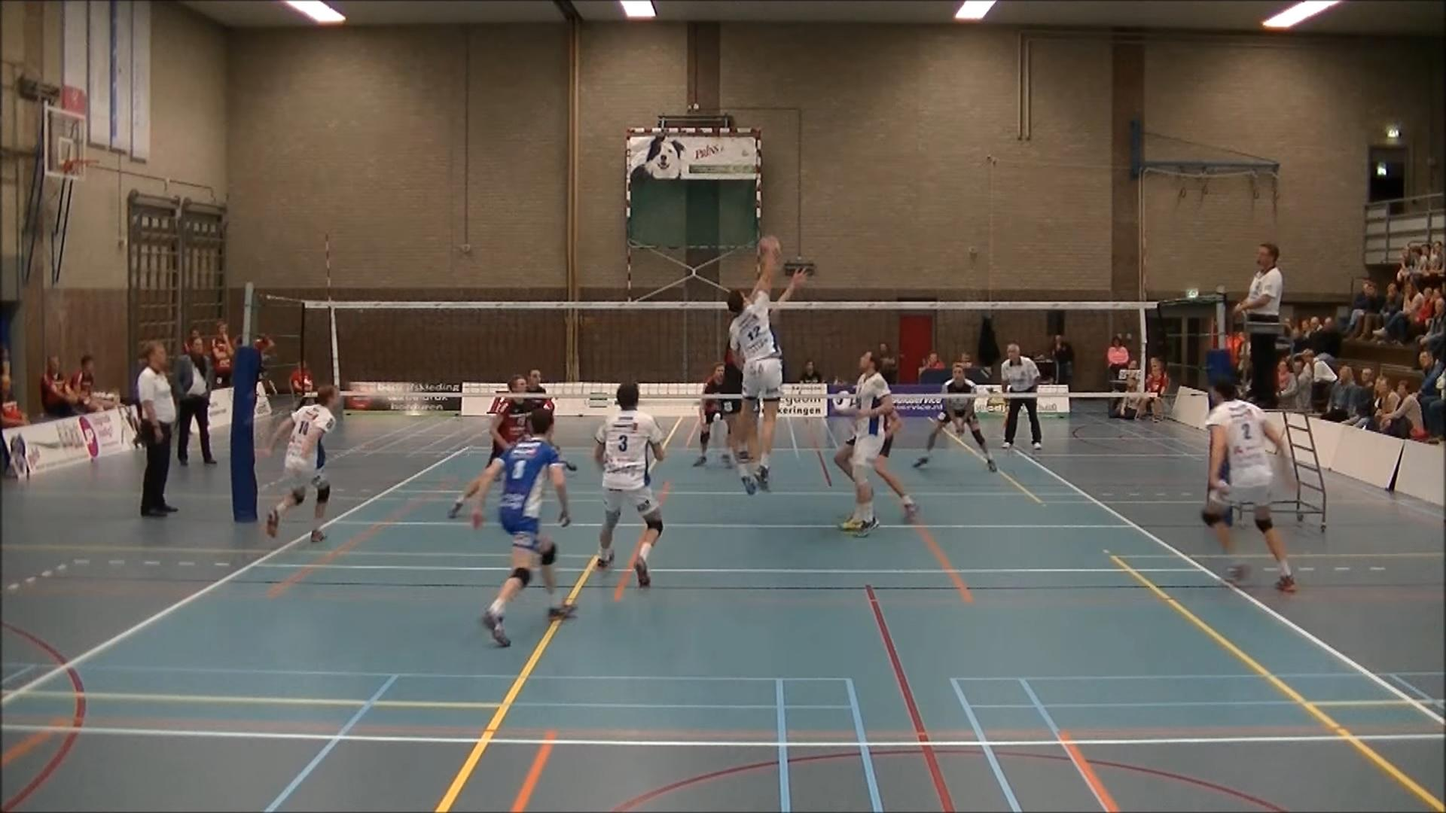Attack: (703, 237, 784, 495)
Block: (728, 260, 815, 497)
Player: (471, 409, 569, 646), (1202, 379, 1295, 592), (594, 382, 664, 586), (263, 385, 337, 542), (838, 352, 893, 534), (914, 362, 996, 471), (871, 412, 917, 520), (694, 363, 728, 466), (490, 397, 533, 465), (527, 368, 554, 411)
ball: (752, 237, 784, 260)
